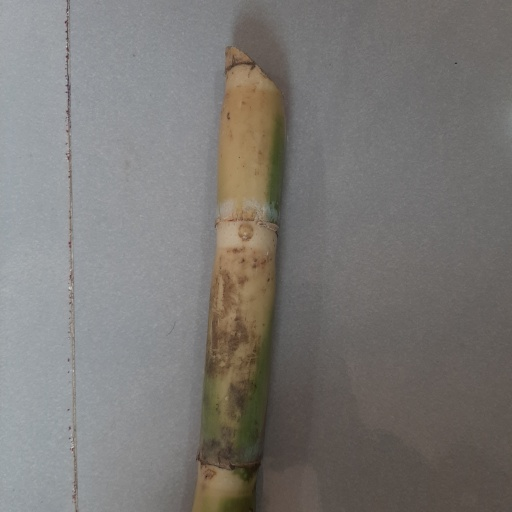Bud: (239, 225, 254, 241)
